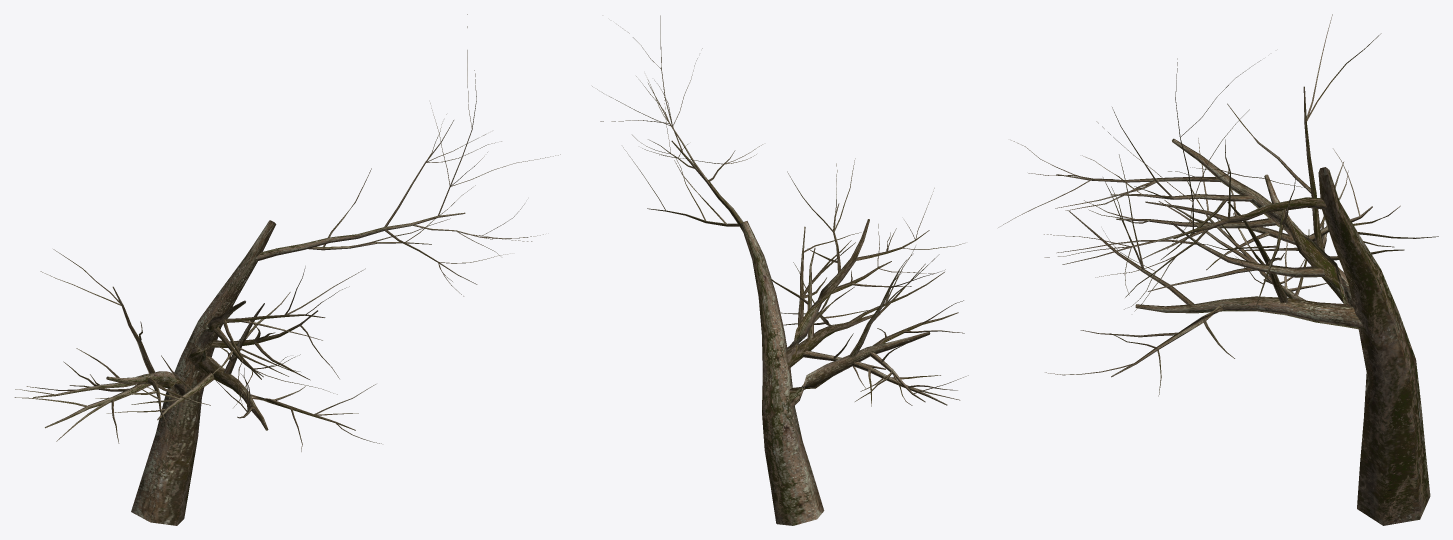
File: dead_tree_b.glb
3 renders of one model, left to right at view 1: azimuth 30°, elevation 25°; view 2: azimuth 150°, elevation 25°; view 3: azimuth 270°, elevation 25°, orthographic. The views are drawn at different scales.
Parts seen in each view (by area): view 1: arbre; view 2: arbre; view 3: arbre.
Part boxes in pixels (x1,y1,x2,y2): arbre: (14,14,560,525); arbre: (592,15,968,525); arbre: (998,14,1438,525).
Bounding box in the file's own units: 5.02 × 4.69 × 2.95.
1 material, 1 textured.
